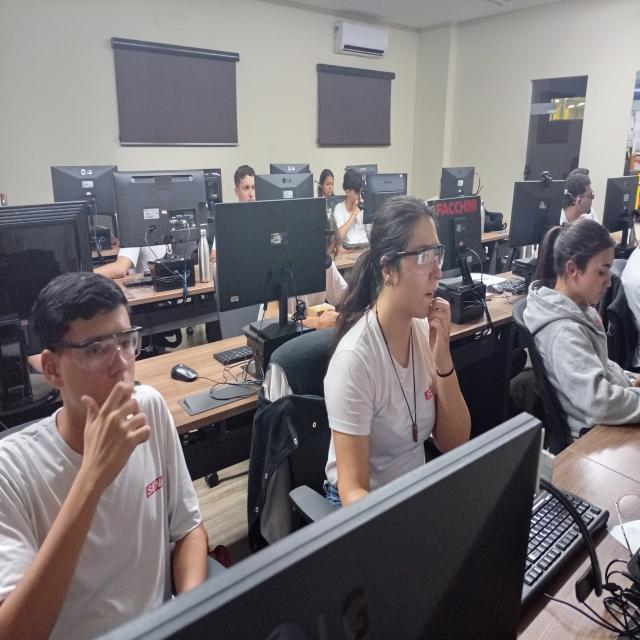oculos-epi: (61, 327, 141, 372), (395, 244, 445, 268)
sem_oculos: (581, 253, 617, 284), (579, 190, 596, 204), (239, 182, 254, 196), (350, 187, 361, 204), (322, 180, 334, 189)
